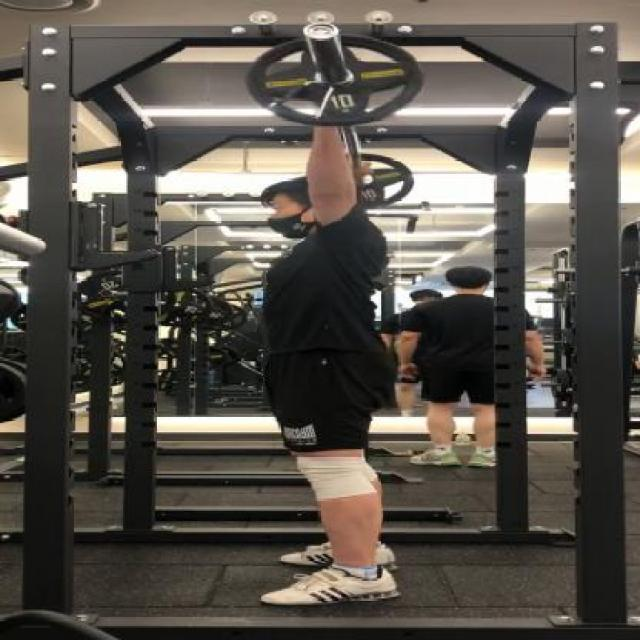Barbell: (297, 22, 345, 42)
